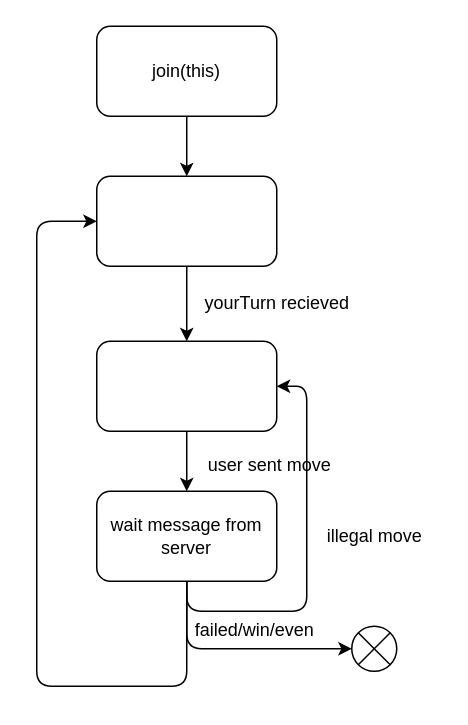
Some shapes in this 468 by 725 pixel diagram are drawn without their labels. Here are the shapes that lost their labels. From the top down, the box of each, then its label:
(95, 175, 277, 266): wait server
(95, 340, 277, 431): askMove
